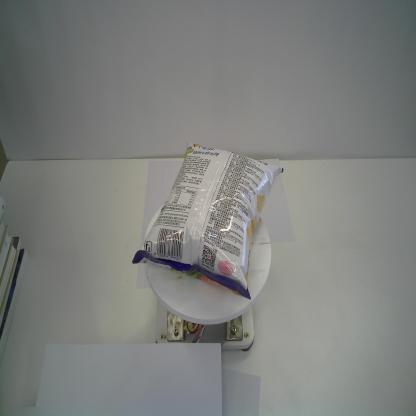Puffed Food: (130, 138, 286, 300)
